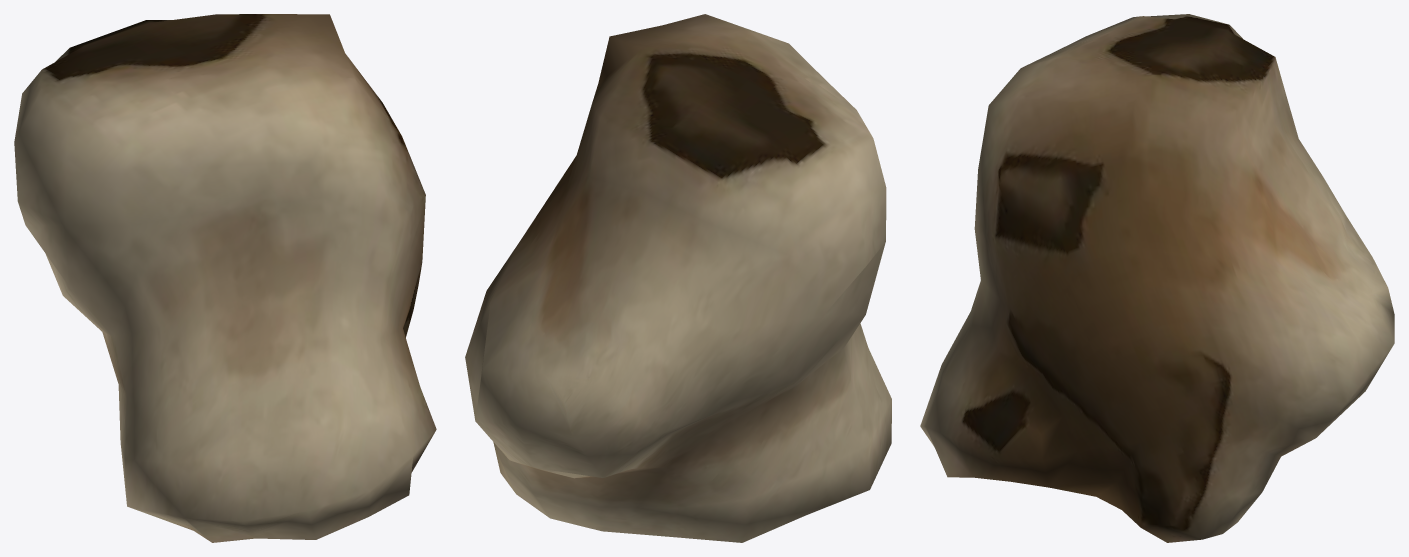
Rendered from Tarsal_IV.glb.
The picture shows the model from 3 angles, left to right: view 1: azimuth 30°, elevation 25°; view 2: azimuth 150°, elevation 25°; view 3: azimuth 270°, elevation 25°; orthographic projection. The views are drawn at different scales.
Parts seen in each view (by area): view 1: Tarsal_IV_Right1:Group57595; view 2: Tarsal_IV_Right1:Group57595; view 3: Tarsal_IV_Right1:Group57595.
Boxes of the visible parts, x1,y1,x2,y2 form: Tarsal_IV_Right1:Group57595: [14, 14, 436, 542]; Tarsal_IV_Right1:Group57595: [465, 14, 891, 542]; Tarsal_IV_Right1:Group57595: [920, 14, 1394, 542].
Size of the model in its own units: 14.19 by 16.61 by 16.51.
1 material, 1 textured.
